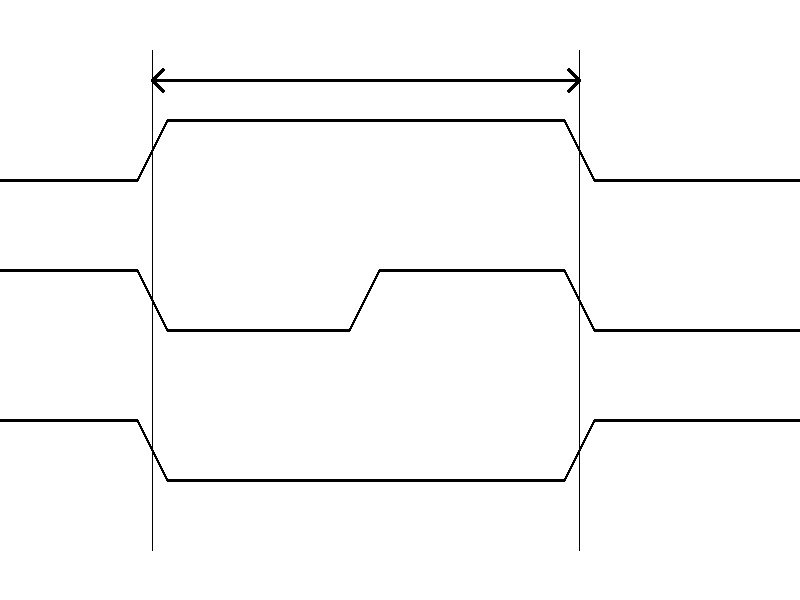double_arrow: (152, 65, 579, 95)
